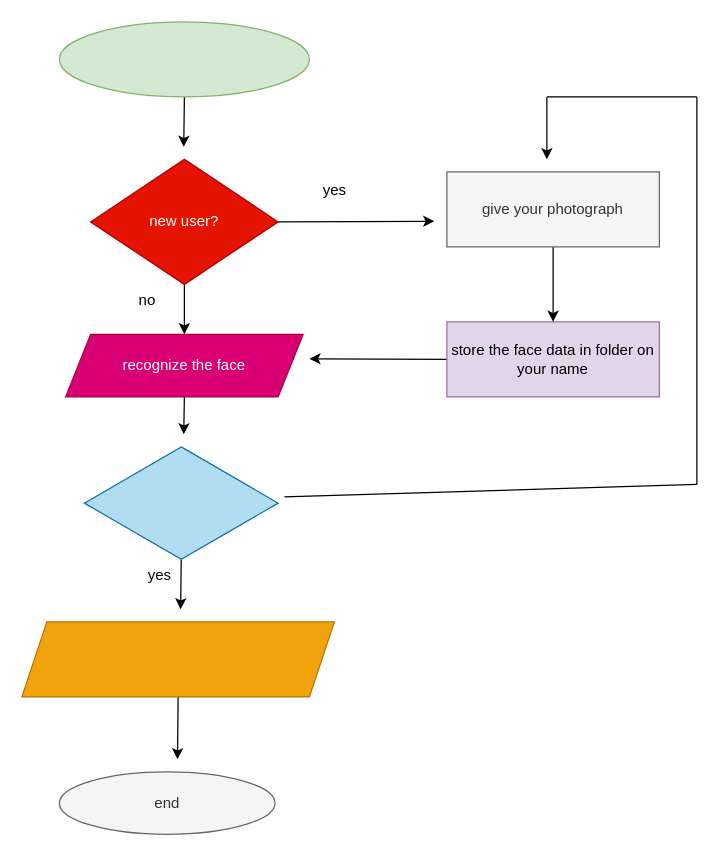
The diagram is 720 pixels wide and 856 high, and some of its shapes have lost their labels. Here are the shapes that lost their labels. From the top down, the box of each, then its label:
(58, 21, 309, 97): start
(83, 446, 278, 559): face recognized
(21, 621, 334, 697): stored in csv file with recistration numbber & date.time of entry
